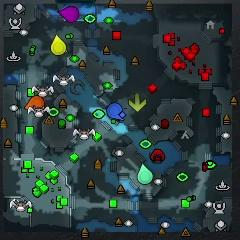p1: (107, 102, 124, 120)
p2: (137, 163, 154, 185)
p3: (60, 6, 79, 22)
p4: (51, 35, 67, 55)
p5: (25, 96, 44, 111)
x2: (127, 92, 146, 111)
